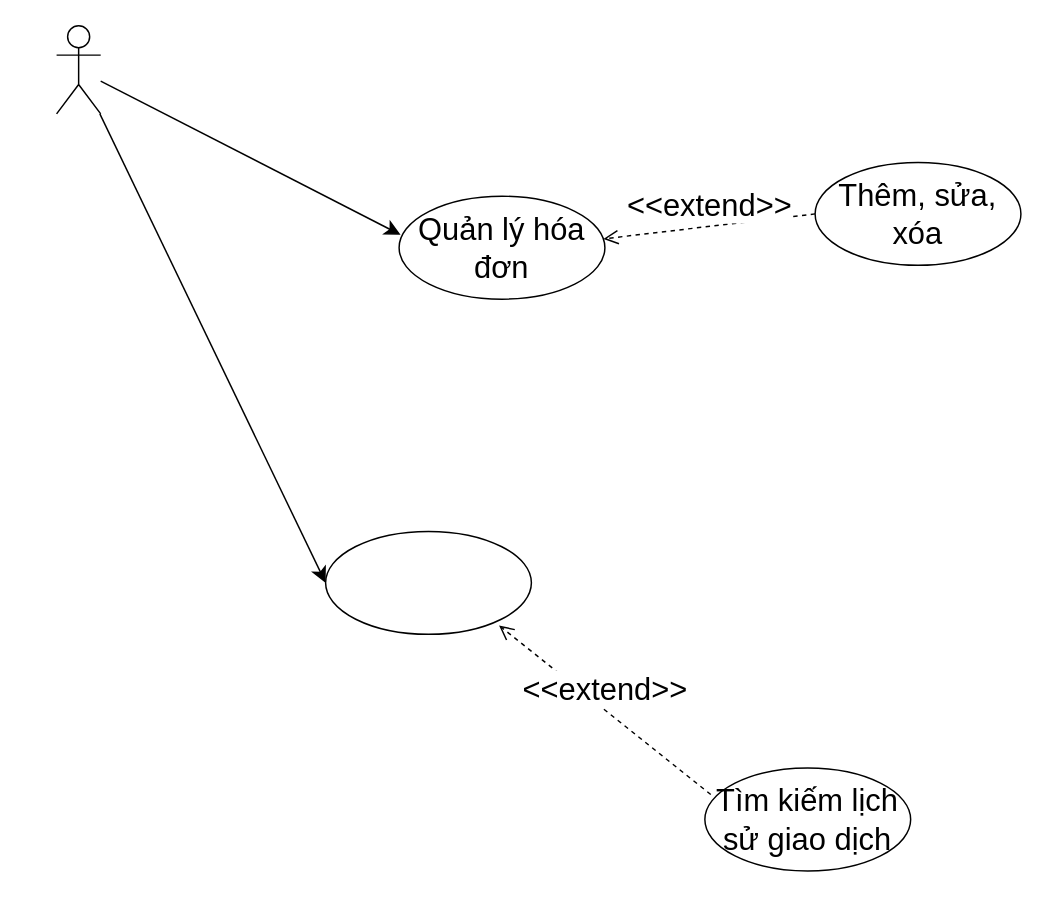
The diagram is 1047 pixels wide and 897 high, and some of its shapes have lost their labels. The centre of each missing label's shape, as x and y in pixels:
Kế toán: (x=78, y=69)
Tìm kiếm: (x=427, y=582)
